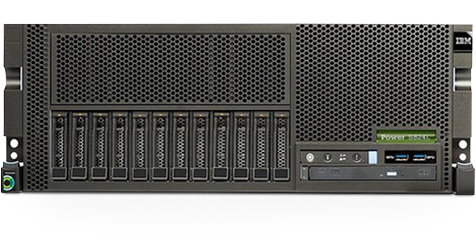ibm-server: (1, 18, 475, 200)
